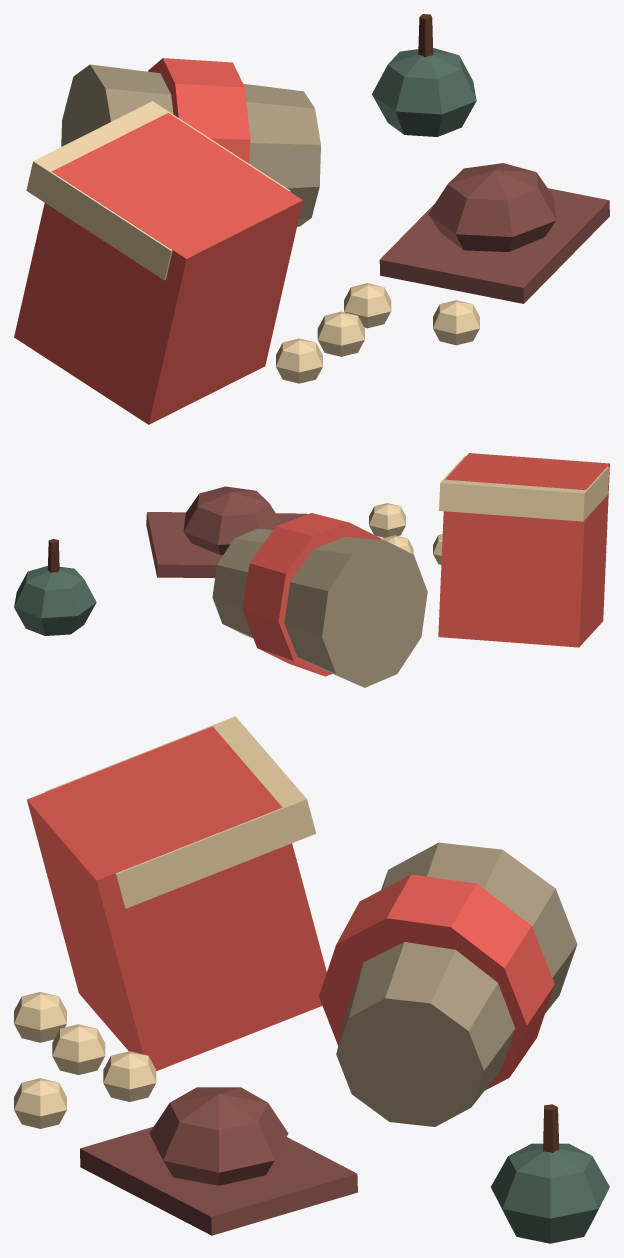
The model's file is ParkParkLitter.obj.
The picture shows the model from 3 angles, top to bottom: view 1: azimuth 30°, elevation 25°; view 2: azimuth 150°, elevation 25°; view 3: azimuth 270°, elevation 25°; orthographic projection. The views are drawn at different scales.
Parts seen in each view (by area): view 1: ParkParkLitter; view 2: ParkParkLitter; view 3: ParkParkLitter.
Boxes of the visible parts, left/top/right/bottom form: ParkParkLitter: left=14, top=14, right=609, bottom=424; ParkParkLitter: left=14, top=453, right=609, bottom=687; ParkParkLitter: left=14, top=716, right=609, bottom=1243.
Size of the model in its own units: 2.99 by 1.09 by 2.34.
